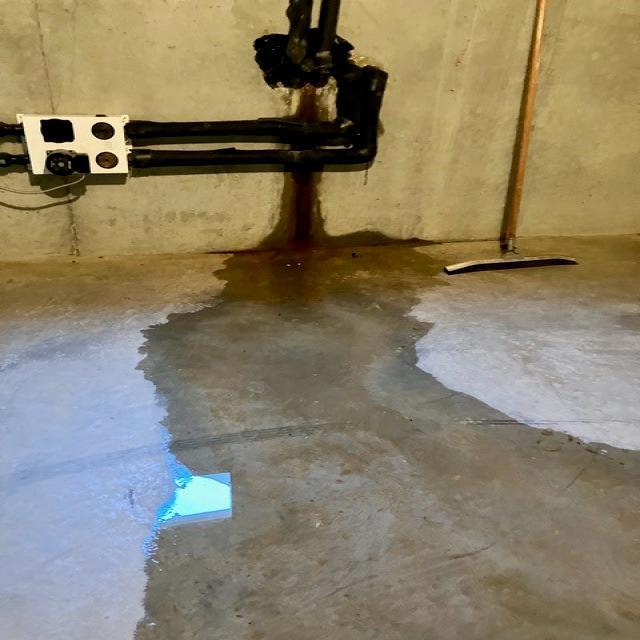water accumulation: (136, 250, 640, 640), (263, 88, 339, 245)
